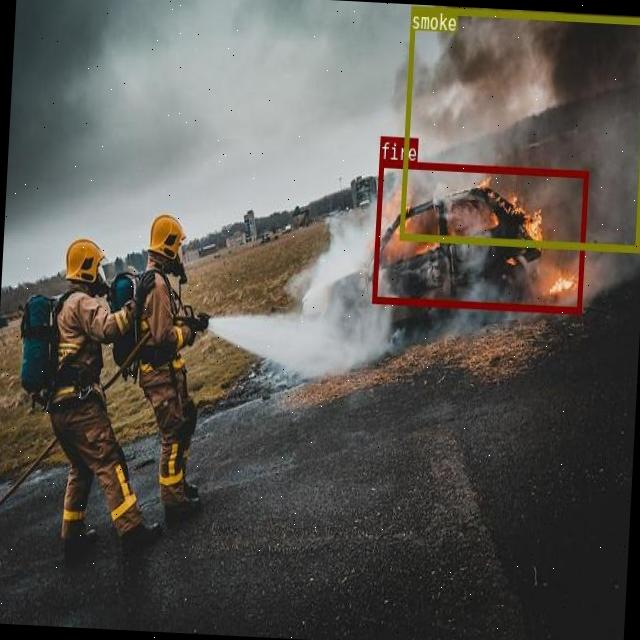fire: (372, 158, 587, 314)
smoke: (398, 4, 640, 251)
